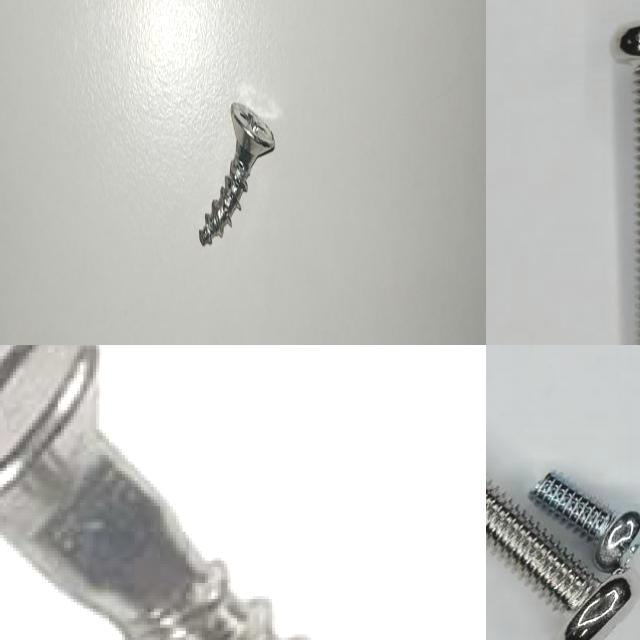Screw: (0, 345, 297, 640), (486, 481, 632, 640), (530, 473, 640, 573), (199, 102, 275, 245)
